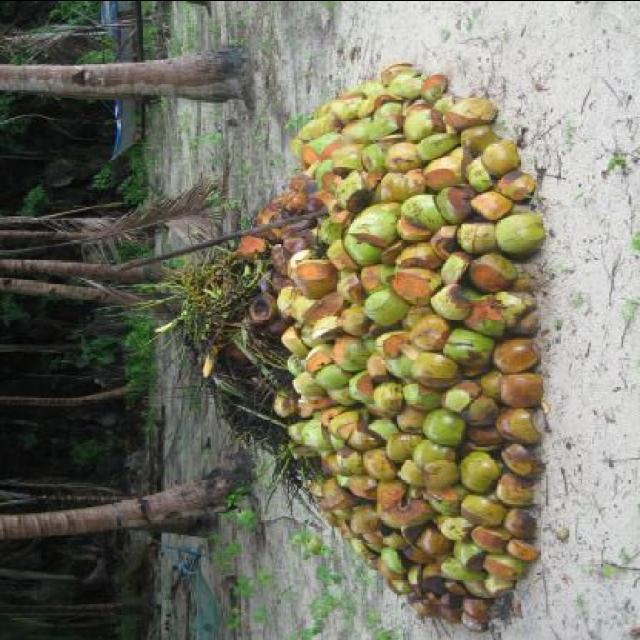Coconut: (228, 62, 550, 628)
